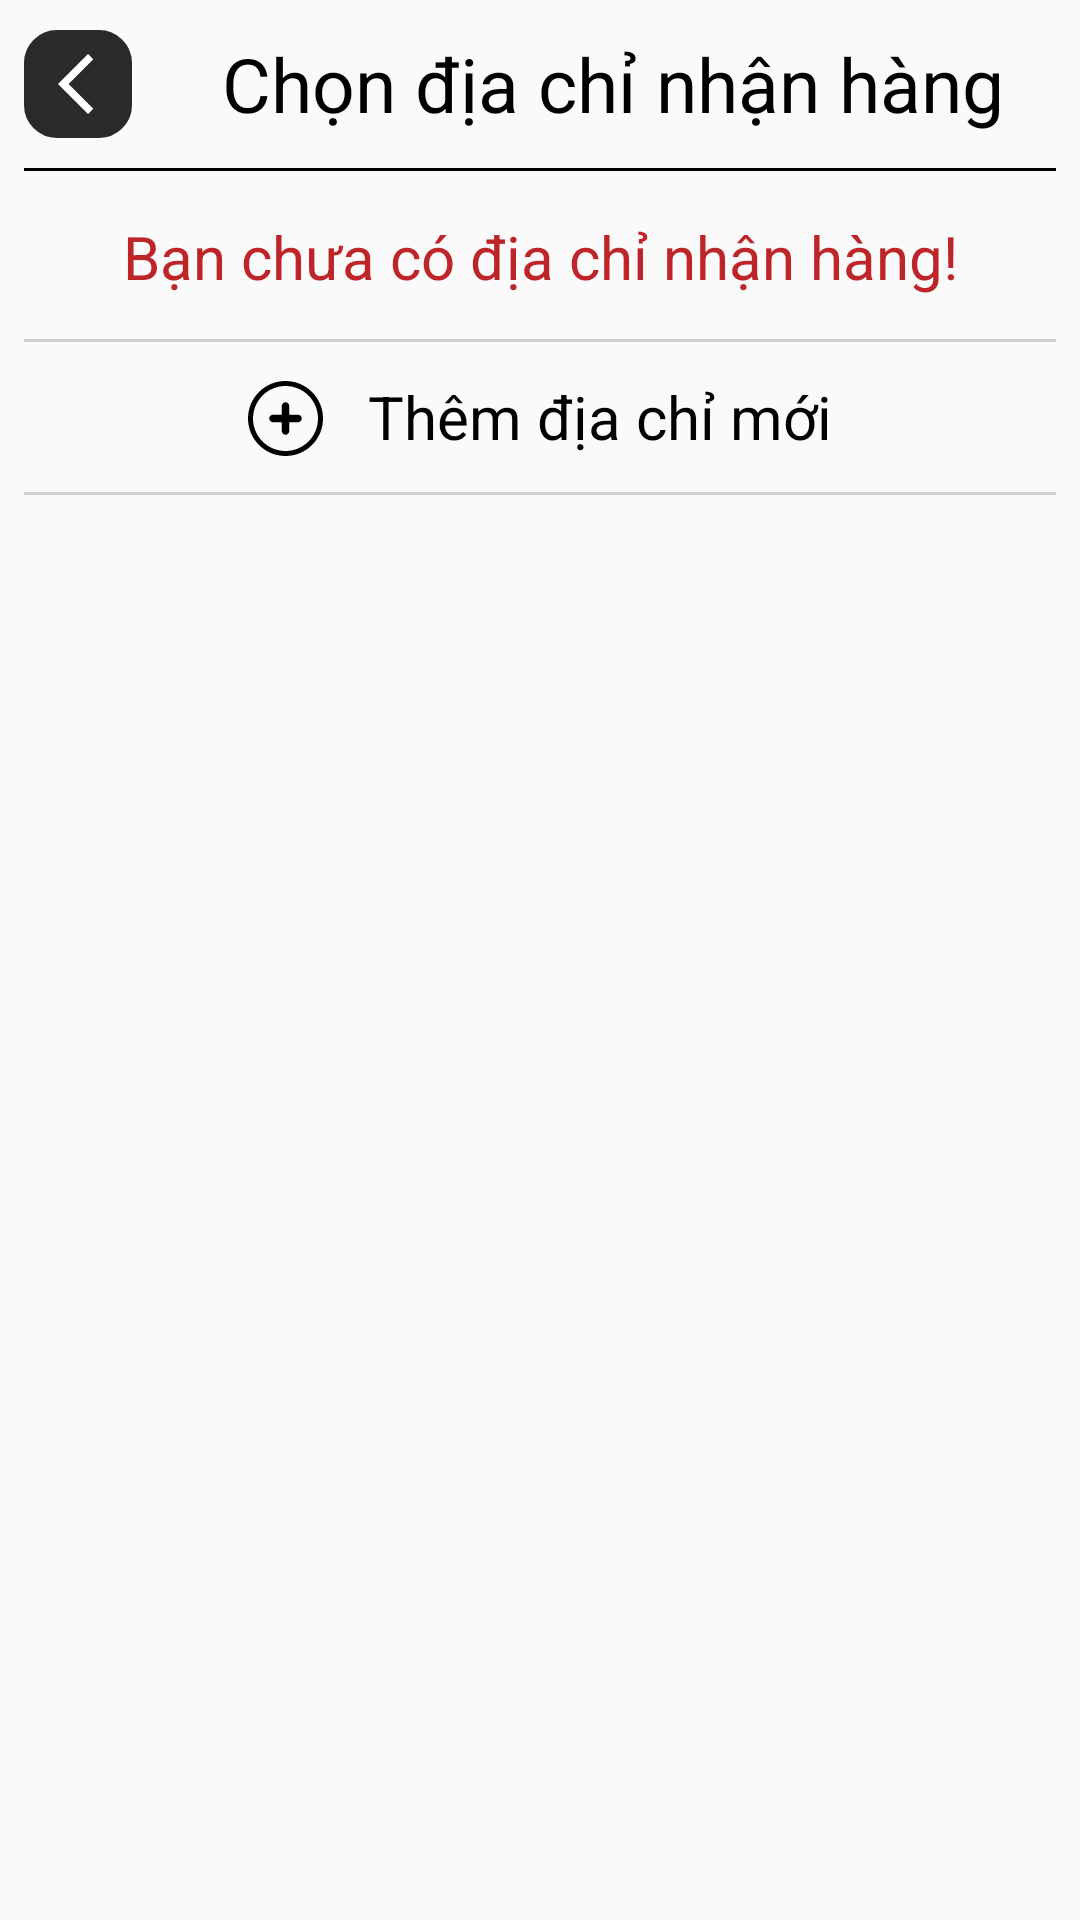

Screen size 1080px×1920px. Icon name, then its box in pixels as (x1, y1, x2, y2):
back: (58, 54, 93, 114)
mathematics sign plus: (248, 381, 323, 456)
